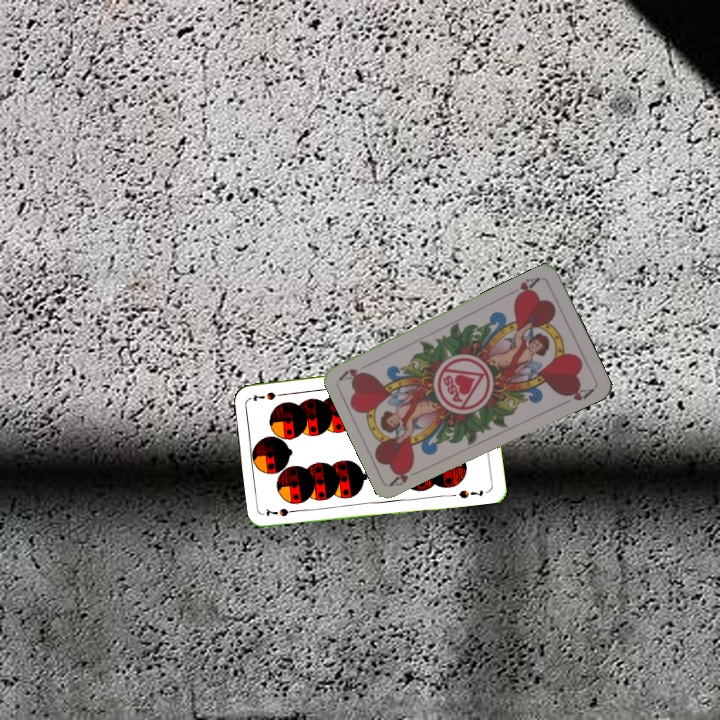HA: (387, 462, 426, 489), (510, 272, 543, 302)
S7: (262, 504, 303, 519)
